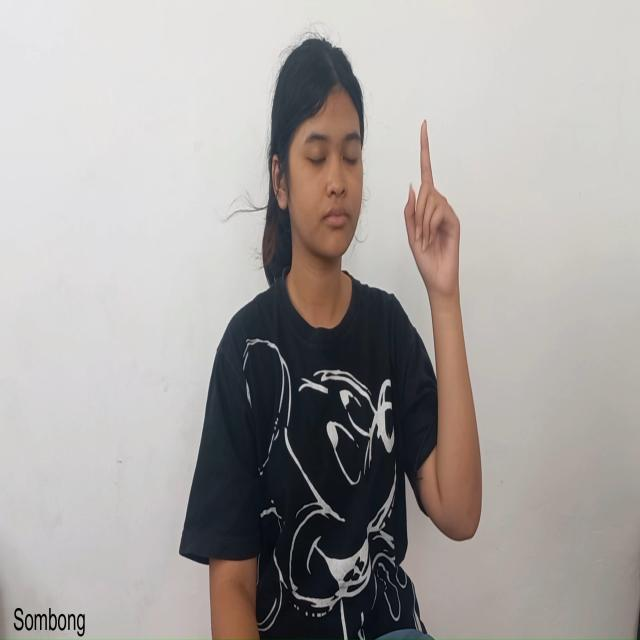Sombong -BISINDO-: (397, 111, 490, 545)
